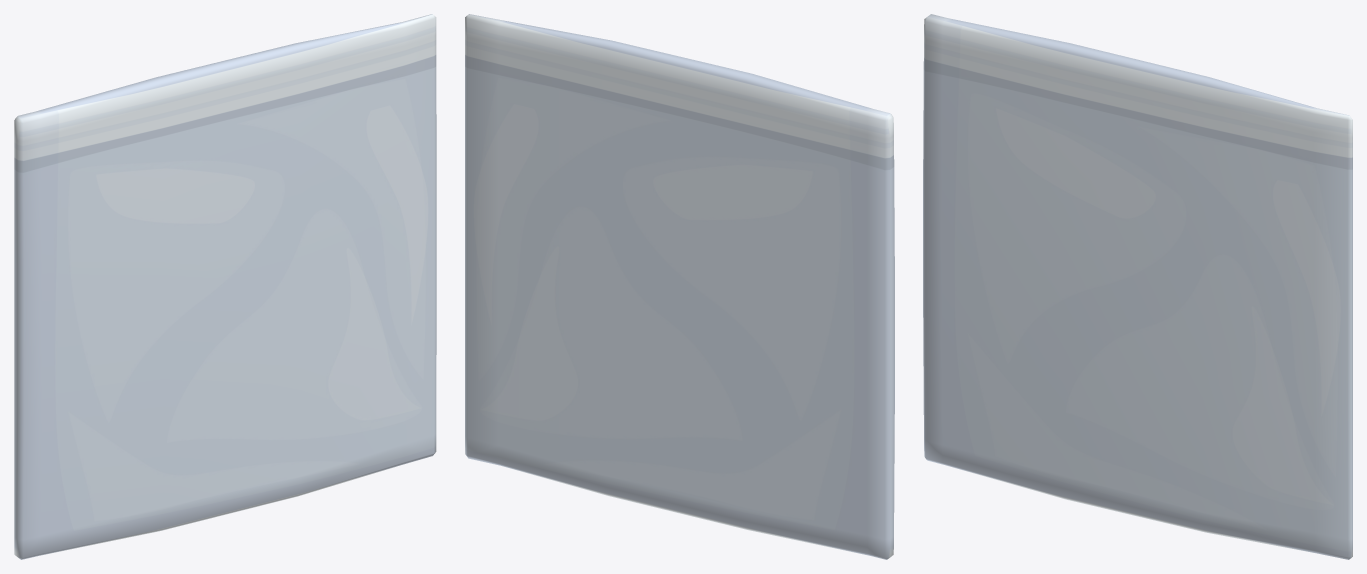
File: grip-seal-bag.glb
The picture shows the model from 3 angles, left to right: view 1: azimuth 30°, elevation 25°; view 2: azimuth 150°, elevation 25°; view 3: azimuth 330°, elevation 25°; orthographic projection.
Parts seen in each view (by area): view 1: Bag; view 2: Bag; view 3: Bag.
Part boxes in pixels (x1=…): Bag: x1=14, y1=14, x2=436, y2=559; Bag: x1=465, y1=14, x2=894, y2=559; Bag: x1=923, y1=14, x2=1352, y2=559.
Bounding box in the file's own units: 0.2 × 0.204 × 0.00821.
Materials: 1 (1 with a texture image).
